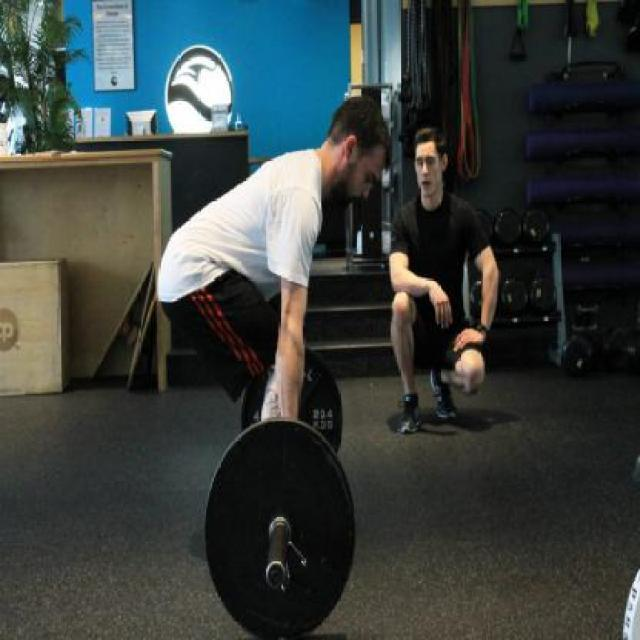barbell: (196, 412, 365, 640)
